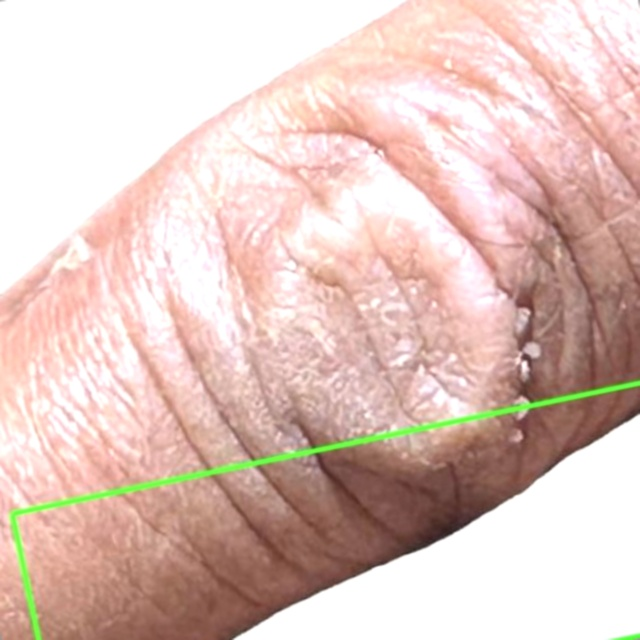Contact Dermatitis: (11, 384, 639, 639)
